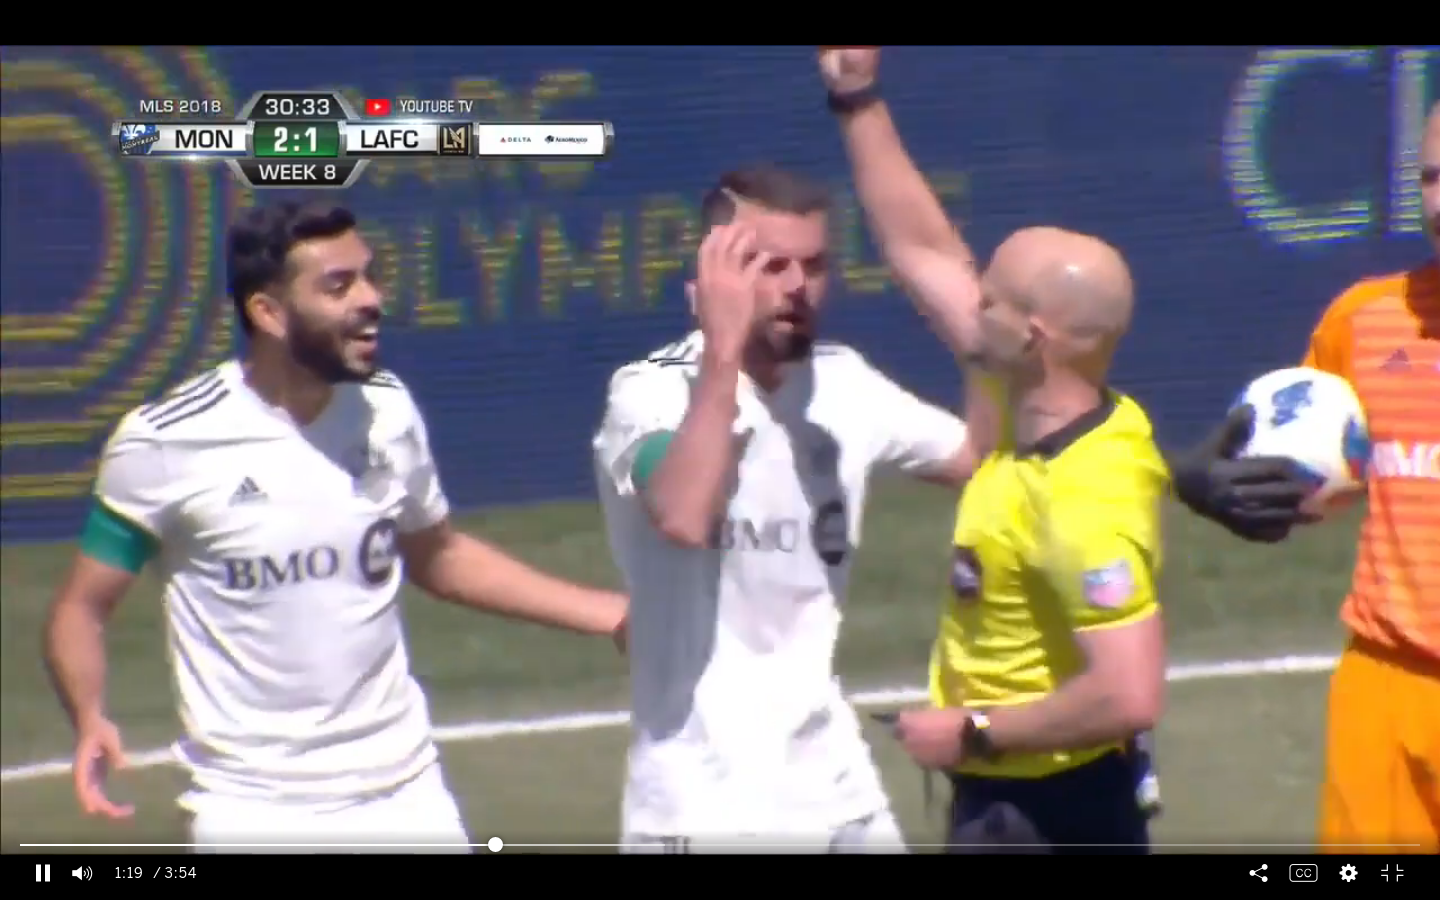referee: (816, 52, 1184, 849)
soccer player: (42, 188, 585, 849), (585, 168, 932, 848), (1181, 79, 1440, 837)
soccerball: (1224, 362, 1375, 511)
